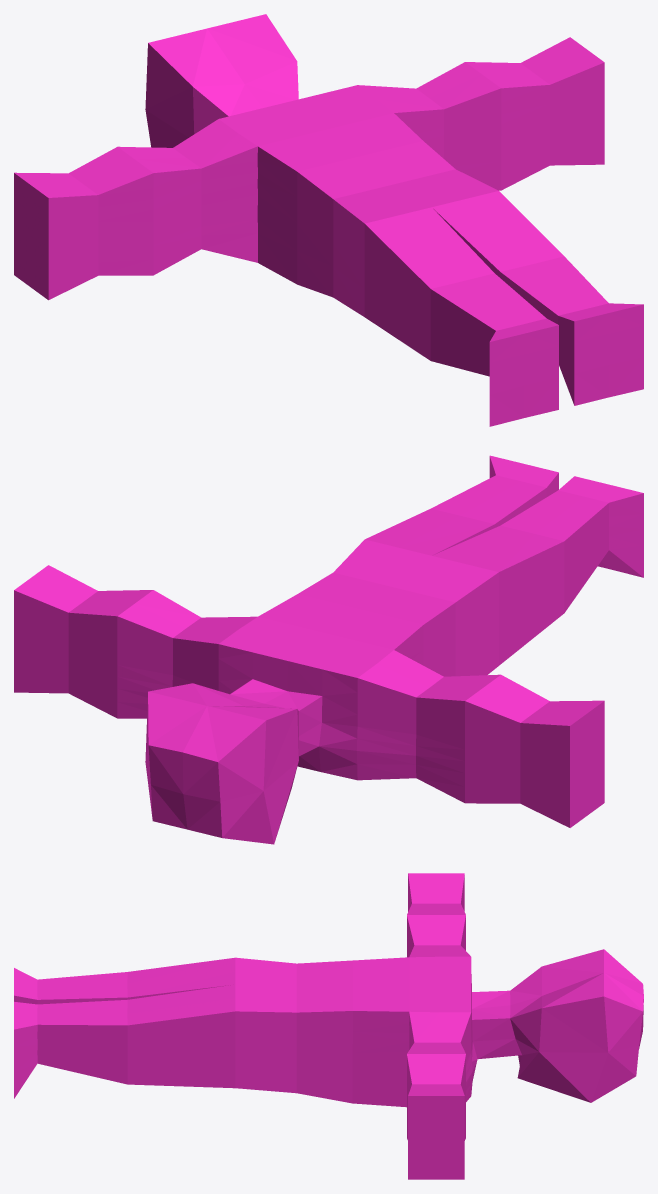
Rendered from human_tpose.dae.
3 views of the same model, one above another, from view 1: azimuth 30°, elevation 25°; view 2: azimuth 150°, elevation 25°; view 3: azimuth 270°, elevation 25° (orthographic). The views are drawn at different scales.
Parts seen in each view (by area): view 1: Cube; view 2: Cube; view 3: Cube.
Boxes of the visible parts, bbox=[...] form: Cube: bbox=[14, 14, 643, 426]; Cube: bbox=[14, 455, 643, 844]; Cube: bbox=[14, 873, 643, 1179].
Bounding box in the file's own units: 1.43 × 1.71 × 0.3212.
1 material, 1 textured.
